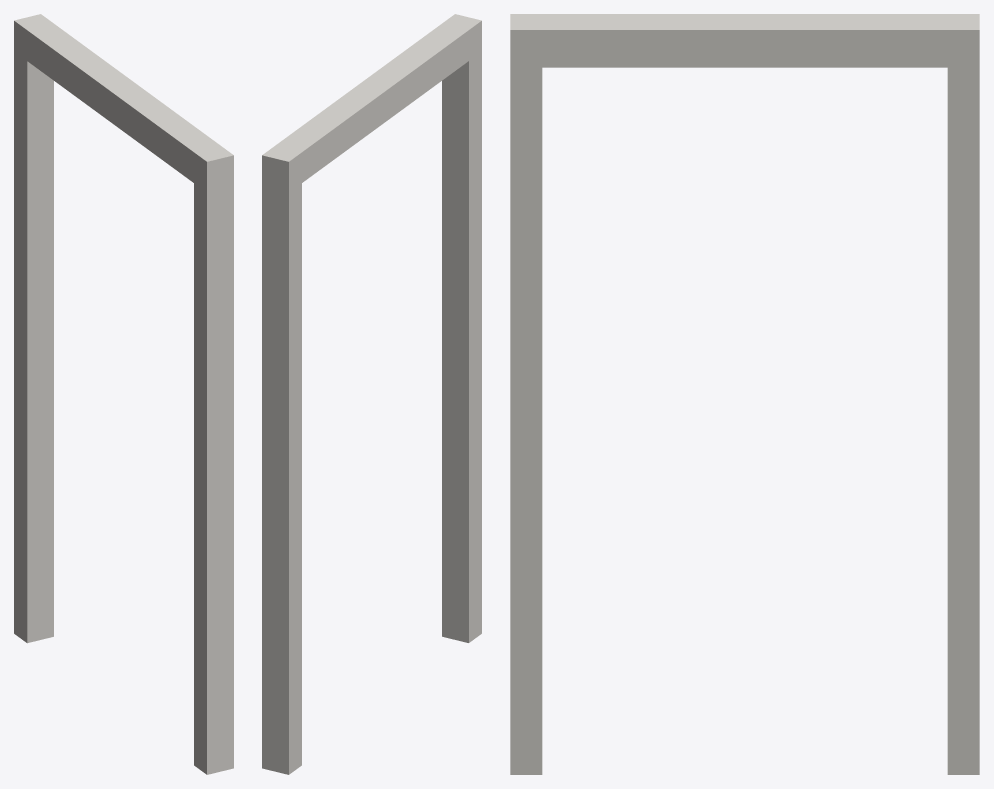
File: Elements_Doorframe.fbx
The picture shows the model from 3 angles, left to right: view 1: azimuth 30°, elevation 25°; view 2: azimuth 150°, elevation 25°; view 3: azimuth 270°, elevation 25°; orthographic projection. The views are drawn at different scales.
Visible parts, largest first — view 1: DoorFrame; view 2: DoorFrame; view 3: DoorFrame.
Boxes of the visible parts, x1,y1,x2,y2 form: DoorFrame: (14, 14, 233, 774); DoorFrame: (262, 14, 481, 774); DoorFrame: (510, 14, 979, 774).
Size of the model in its own units: 7.37 by 161 by 91.69.
Materials: 1 (1 with a texture image).
